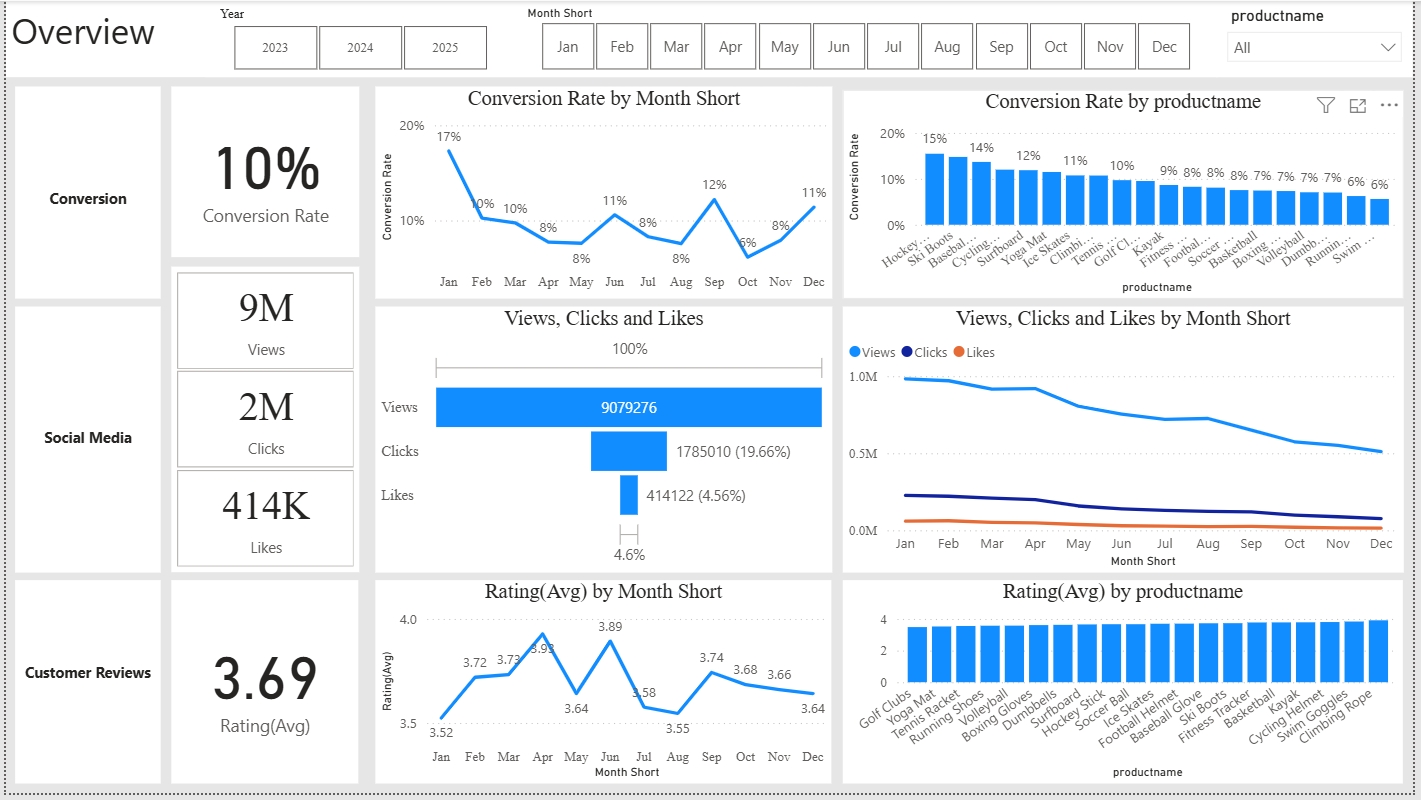

The dashboard page shown, as its layout file describes it:
{"tool":"powerbi","page":{"name":"Overview","canvas":[1280,720],"ordinal":0},"visuals":[{"type":"textbox","box":[0,0,1280.1,69.5],"z":0},{"type":"slicer","fields":{"Values":["Date_Dim.Year"]},"box":[181.5,0,280.1,69.5],"z":1000},{"type":"card","fields":{"Values":["_Measures.Conversion Rate"]},"box":[150.3,77.8,171.4,155.6],"z":2000},{"type":"slicer","fields":{"Values":["dim_products.productname"]},"box":[1101.6,0,178.4,69.5],"z":3000},{"type":"slicer","fields":{"Values":["Date_Dim.Month Short"]},"box":[461.6,0,640,69.5],"z":4000},{"type":"textbox","box":[8.3,77.8,132.8,192.9],"z":5000},{"type":"textbox","box":[8.3,278,132.8,241.7],"z":6000},{"type":"textbox","box":[8.4,526.7,132.5,185],"z":7000},{"type":"cardVisual","fields":{"Data":["_Measures.Views","_Measures.Clicks","_Measures.Likes"]},"box":[150.4,241.7,171.2,278],"z":8000},{"type":"lineChart","fields":{"Category":["Date_Dim.Month Short"],"Y":["_Measures.Conversion Rate"]},"box":[336.1,77.8,416,192.9],"z":9000},{"type":"columnChart","fields":{"Category":["dim_products.productname"],"Y":["_Measures.Conversion Rate"]},"box":[761.4,80.9,510.4,189.8],"z":10000},{"type":"funnel","fields":{"Y":["_Measures.Views","_Measures.Clicks","_Measures.Likes"]},"box":[336.1,278,416,241.7],"z":11000},{"type":"lineChart","fields":{"Category":["Date_Dim.Month Short"],"Y":["_Measures.Views","_Measures.Clicks","_Measures.Likes"]},"box":[761.4,278,510.4,241.7],"z":12000},{"type":"card","fields":{"Values":["_Measures.Rating(Avg)"]},"box":[150.3,526.7,170.3,185],"z":13000},{"type":"lineChart","fields":{"Category":["Date_Dim.Month Short"],"Y":["_Measures.Rating(Avg)"]},"box":[336.4,526.7,415.3,185],"z":14000},{"type":"columnChart","fields":{"Y":["_Measures.Rating(Avg)"],"Category":["dim_products.productname"]},"box":[761.2,526.7,509.9,185],"z":15000}]}

Visuals, with their boxes in screenshot pixels (x1, y1, x2, y2), scaled from the page's 1280x720 canvas onto the 1421x800 screenshot:
textbox: <box>0,0,1420,77</box>
slicer - Date_Dim.Year: <box>201,0,512,77</box>
card - _Measures.Conversion Rate: <box>167,86,357,259</box>
slicer - dim_products.productname: <box>1223,0,1420,77</box>
slicer - Date_Dim.Month Short: <box>512,0,1223,77</box>
textbox: <box>9,86,157,301</box>
textbox: <box>9,309,157,577</box>
textbox: <box>9,585,156,791</box>
cardVisual - _Measures.Views x _Measures.Clicks: <box>167,269,357,577</box>
lineChart - Date_Dim.Month Short x _Measures.Conversion Rate: <box>373,86,835,301</box>
columnChart - dim_products.productname x _Measures.Conversion Rate: <box>845,90,1412,301</box>
funnel - _Measures.Views x _Measures.Clicks: <box>373,309,835,577</box>
lineChart - Date_Dim.Month Short x _Measures.Views: <box>845,309,1412,577</box>
card - _Measures.Rating(Avg): <box>167,585,356,791</box>
lineChart - Date_Dim.Month Short x _Measures.Rating(Avg): <box>373,585,835,791</box>
columnChart - _Measures.Rating(Avg) x dim_products.productname: <box>845,585,1411,791</box>
